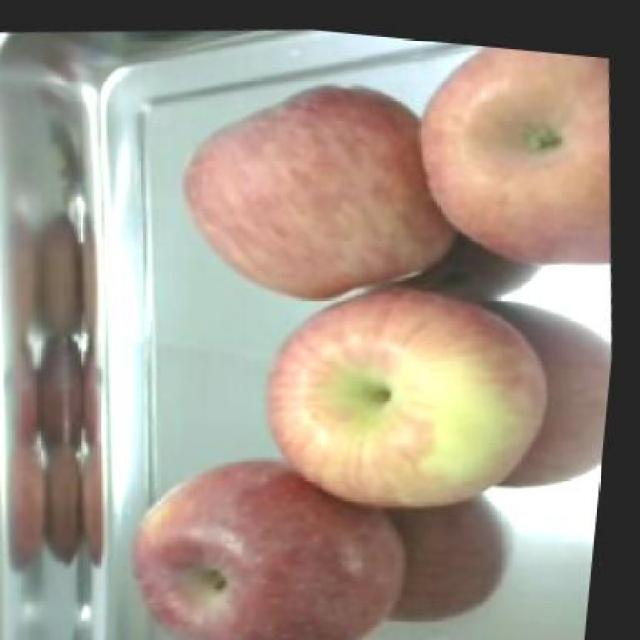Fresh Apple: (171, 82, 467, 306), (270, 291, 544, 516), (401, 47, 640, 261), (132, 468, 405, 640)
